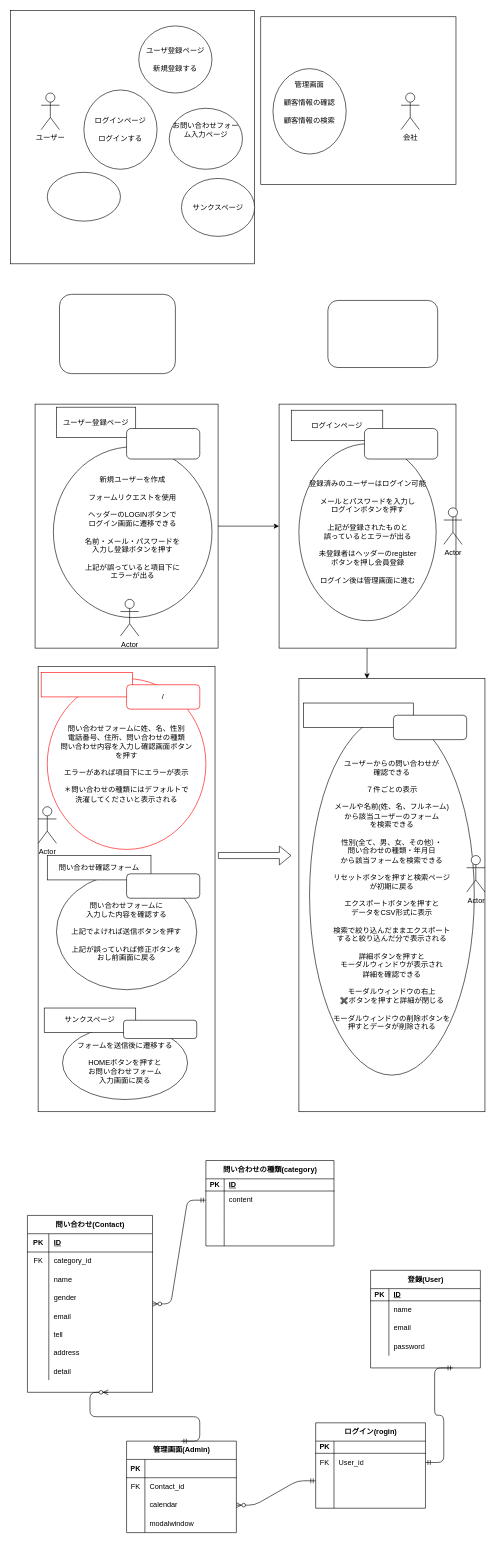
Image size: 496x1543. Some labels were removed from this diagram. The shapes that lost their labels are listed below. From the top down, each one's centre as x and y in pixels, then its label:
At point (83, 196): "お問い合わせフォームの確認画面".
At point (117, 334): "ユーザー ログインできる 問い合わせフォームに入力できる それを送信できる".
At point (382, 334): "管理者 ユーザー情報を参照できる ユーザー情報を検索できる".
At point (163, 443): "/register".
At point (401, 443): "/login".
At point (87, 684): "問い合わせフォーム".
At point (358, 714): "管理画面".
At point (430, 727): "/admin".
At point (163, 885): "/confirm".
At point (160, 1029): "/thanks".
